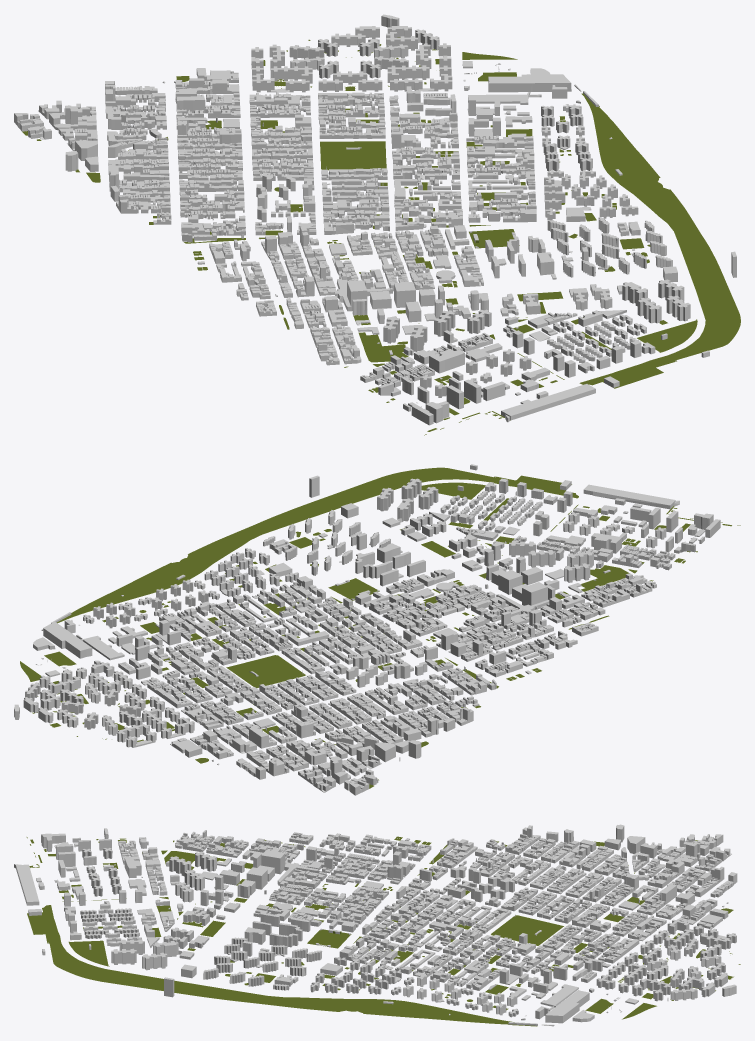
File: area5_lod0.glb
The picture shows the model from 3 angles, top to bottom: view 1: azimuth 30°, elevation 25°; view 2: azimuth 150°, elevation 25°; view 3: azimuth 270°, elevation 25°; orthographic projection. The views are drawn at different scales.
Visible parts, largest first — view 1: Area06_Lod0, Areas:leisure.009; view 2: Area06_Lod0, Areas:leisure.009; view 3: Area06_Lod0, Areas:leisure.009.
Part boxes in pixels (bbox=[...]): Area06_Lod0: bbox=[14, 14, 736, 425]; Areas:leisure.009: bbox=[22, 37, 740, 435]; Area06_Lod0: bbox=[14, 464, 720, 795]; Areas:leisure.009: bbox=[20, 467, 740, 788]; Area06_Lod0: bbox=[14, 824, 737, 1026]; Areas:leisure.009: bbox=[26, 836, 740, 1026].
Size of what is drawn, in the model's own units: 2229 by 94.07 by 3597.
